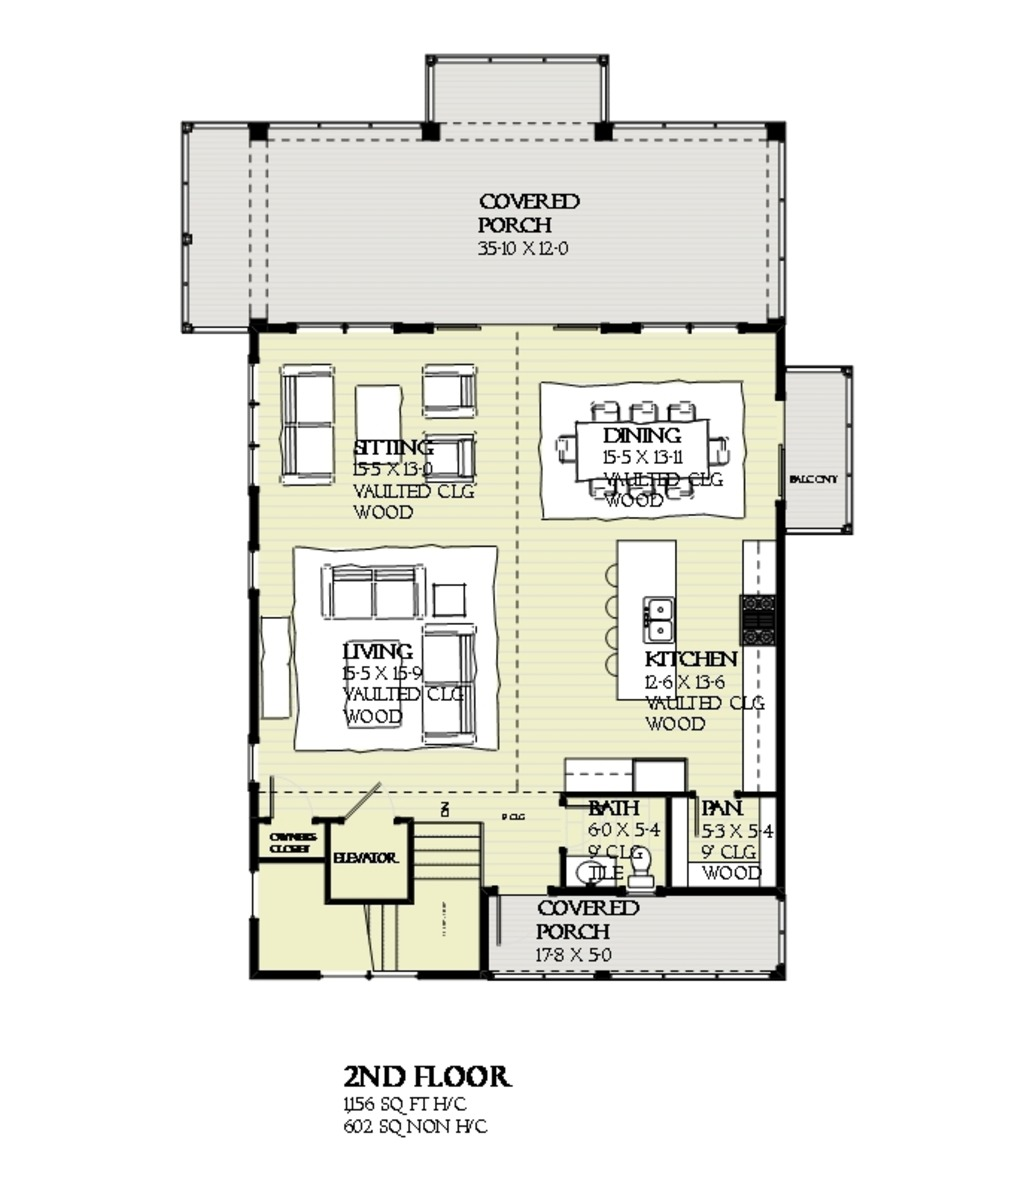kitchen_bar: (605, 534, 680, 711)
large_sofa: (275, 358, 339, 490), (314, 560, 425, 625)
small_sofa: (416, 362, 487, 424)
stairs: (358, 815, 491, 980), (602, 539, 678, 711)
windows: (242, 361, 264, 496), (248, 544, 266, 604)
